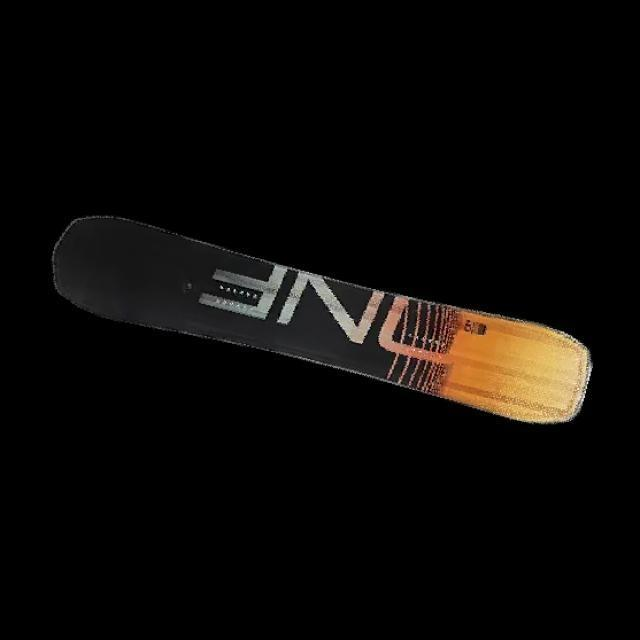Snowboard: (50, 213, 593, 425)
